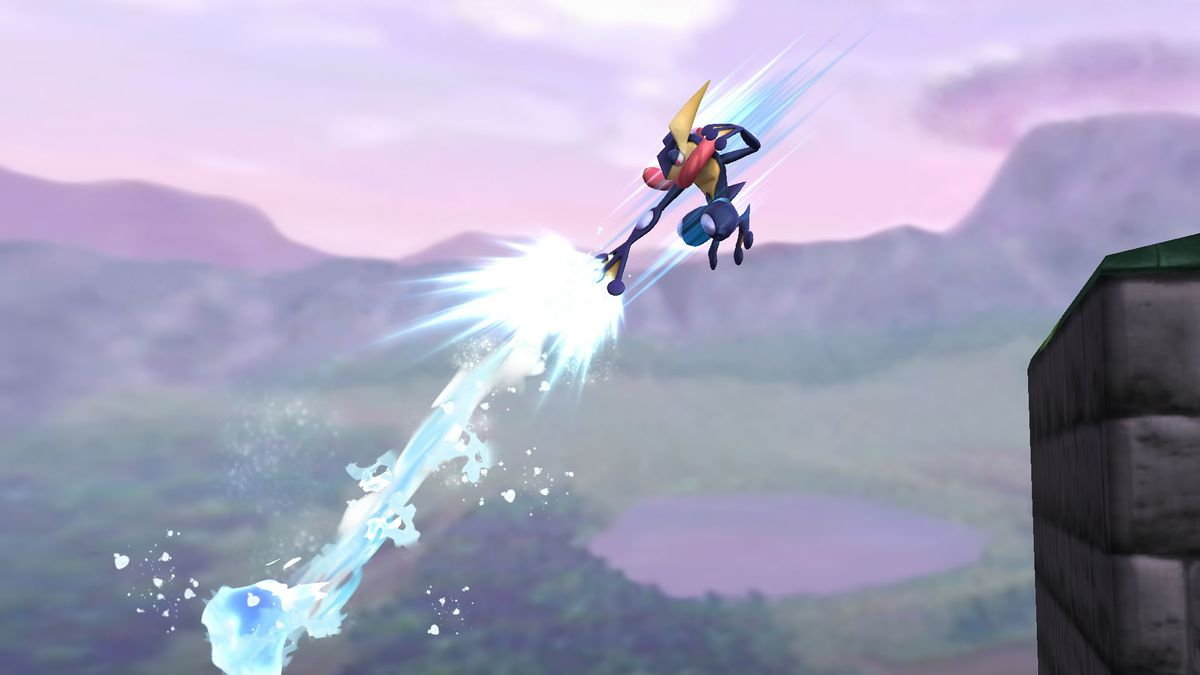greninja: (588, 75, 787, 311)
